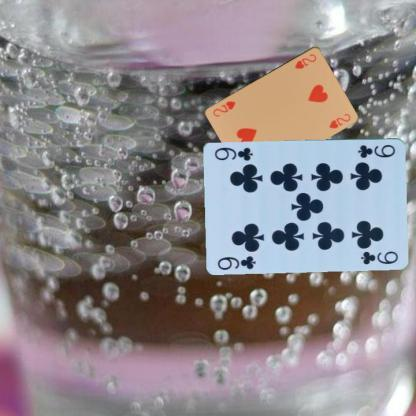2h: (292, 51, 317, 70)
9c: (216, 252, 258, 271), (355, 142, 397, 160)
